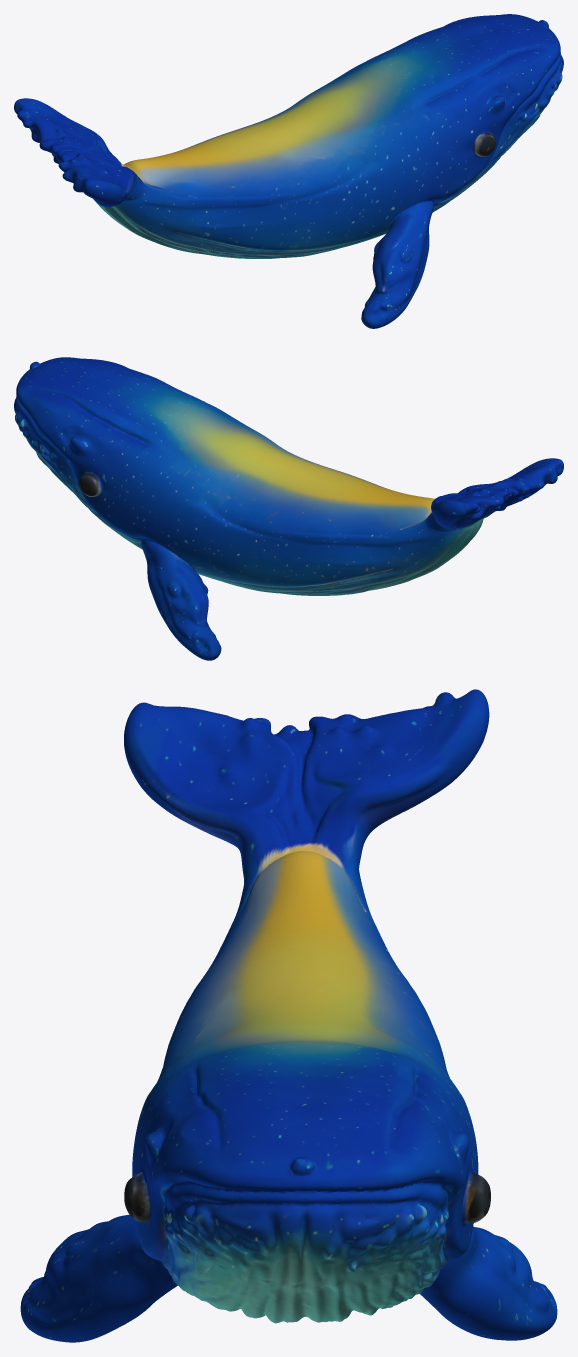
File: whale.glb
3 views of the same model, one above another, from view 1: azimuth 30°, elevation 25°; view 2: azimuth 150°, elevation 25°; view 3: azimuth 270°, elevation 25° (orthographic). The views are drawn at different scales.
Parts seen in each view (by area): view 1: tripo_node_22c7e154-a582-4345-9702-b3433f27eb66; view 2: tripo_node_22c7e154-a582-4345-9702-b3433f27eb66; view 3: tripo_node_22c7e154-a582-4345-9702-b3433f27eb66.
Part boxes in pixels (x1,y1,x2,y2): tripo_node_22c7e154-a582-4345-9702-b3433f27eb66: (14, 14, 563, 328); tripo_node_22c7e154-a582-4345-9702-b3433f27eb66: (14, 357, 563, 660); tripo_node_22c7e154-a582-4345-9702-b3433f27eb66: (20, 689, 557, 1342).
Bounding box in the file's own units: 1 × 0.3873 × 0.4638.
1 material, 1 textured.
